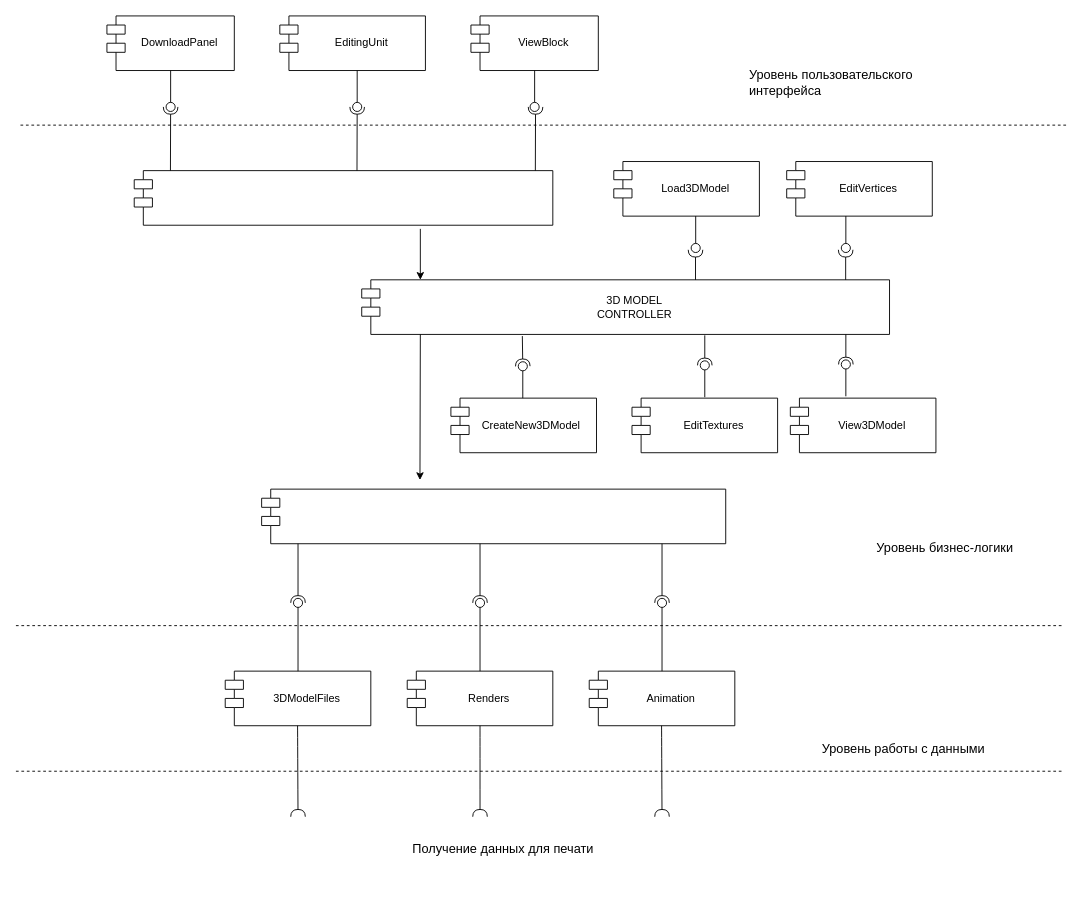
The diagram is 1084 pixels wide and 899 high, and some of its shapes have lost their labels. The centre of each missing label's shape, as x and y in pixels:
"APP CONTROLLER" belongs at [343,197].
"FILE SYSTEM CONTROLLER" belongs at [493,516].
